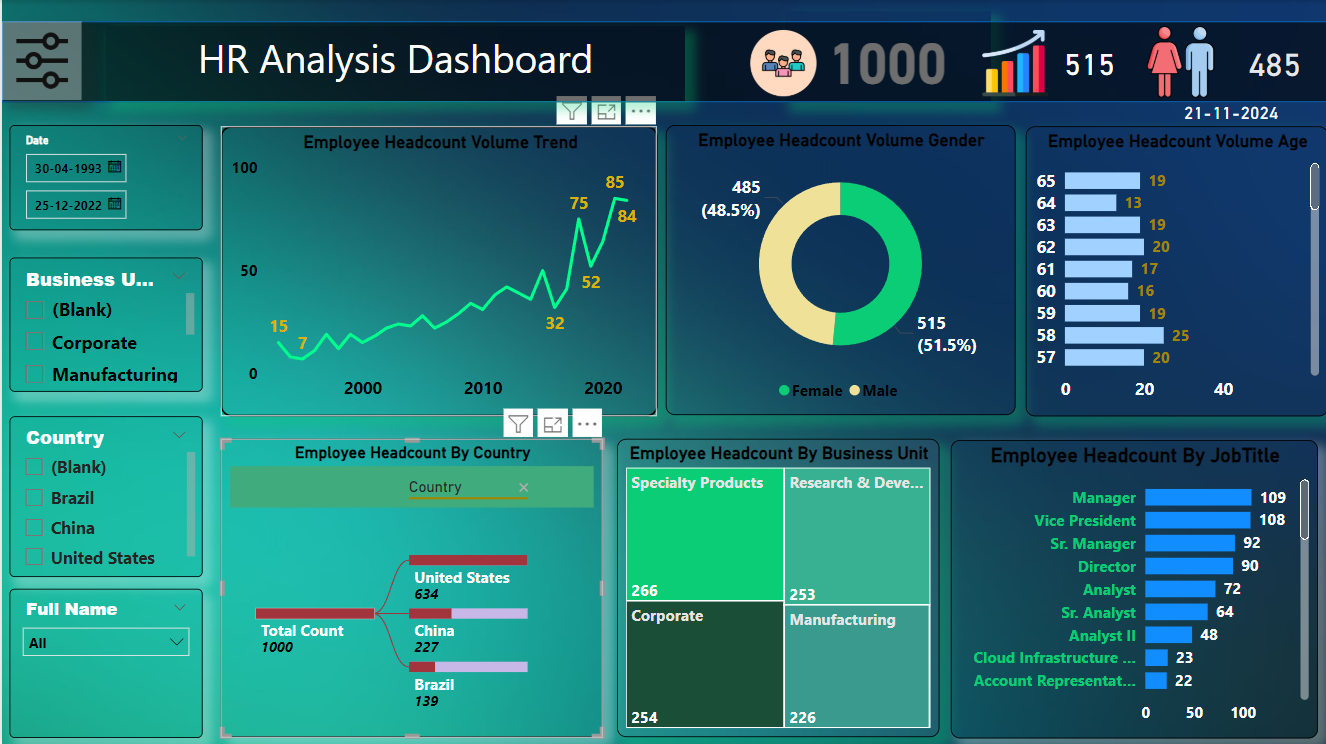

What the dashboard file says about the page in this screenshot:
{"tool":"powerbi","page":{"name":"Page 1","canvas":[1280,720],"ordinal":0},"visuals":[{"type":"card","fields":{"Values":["Employee Data.Total_count"]},"box":[754.7,11,199,87.8],"z":0},{"type":"lineChart","title":"Employee Headcount Volume Trend","fields":{"Category":["Employee Data.Hire Date.Variation.Date Hierarchy.Year"],"Y":["CountNonNull(Employee Data.Employee ID)"]},"box":[211.3,122.1,421.3,279.9],"z":1000},{"type":"donutChart","title":"Employee Headcount Volume Gender","fields":{"Category":["Employee Data.Gender"],"Y":["CountNonNull(Employee Data.Employee ID)"]},"box":[640.8,120.8,337.6,279.9],"z":2000},{"type":"clusteredBarChart","title":"Employee Headcount Volume Age","fields":{"Category":["Employee Data.Age"],"Y":["CountNonNull(Employee Data.Employee ID)"]},"box":[988,122.1,292.3,279.9],"z":3000},{"type":"decompositionTreeVisual","title":"Employee Headcount By Country","fields":{"Analyze":["CountNonNull(Employee Data.Country)"],"ExplainBy":["Employee Data.Country"]},"box":[211.3,424,369.1,288.2],"z":4000},{"type":"treemap","title":"Employee Headcount By Business Unit","fields":{"Group":["Employee Data.Business Unit"],"Values":["CountNonNull(Employee Data.Employee ID)"]},"box":[594.2,424,311.5,288.2],"z":5000},{"type":"clusteredBarChart","title":"Employee Headcount By JobTitle","fields":{"Category":["Employee Data.Job Title"],"Y":["CountNonNull(Employee Data.Employee ID)"]},"box":[915.5,424.3,354.8,288],"z":6000},{"type":"shape","box":[0,20.6,1280.3,78.2],"z":7000},{"type":"card","fields":{"Values":["Employee Data.Total_male"]},"box":[1185.6,24.7,85.1,72.7],"z":8000},{"type":"card","fields":{"Values":["Employee Data.Total_female"]},"box":[1010,24.7,79.6,72.7],"z":9000},{"type":"slicer","fields":{"Values":["Employee Data.Business Unit"]},"box":[7,249,186.4,129.4],"z":10000},{"type":"slicer","fields":{"Values":["Employee Data.Country"]},"box":[6.9,402.1,186.6,155.1],"z":11000},{"type":"slicer","fields":{"Values":["Employee Data.Full Name"]},"box":[6.9,568.1,186.6,144.1],"z":12000},{"type":"slicer","fields":{"Values":["Employee Data.Hire Date"]},"box":[6.9,120.8,186.6,101.5],"z":13000},{"type":"image","box":[1089.5,20.6,96.1,78.2],"z":14000},{"type":"image","box":[905.7,24.7,144.1,74.1],"z":15000},{"type":"image","box":[706.7,24.7,94.7,74.1],"z":16000},{"type":"image","box":[0,21,77,76],"z":17000},{"type":"card","fields":{"Values":["Min(Query1.date)"]},"box":[1093,84.5,187,50.7],"z":18000},{"type":"textbox","box":[100.2,25,559.3,72.3],"z":19000}]}

Visuals, with their boxes in screenshot pixels (x1, y1, x2, y2), scaled from the page's 1280x720 canvas onto the 1326x744 screenshot:
card - Employee Data.Total_count: box(782, 11, 988, 102)
"Employee Headcount Volume Trend" lineChart: box(219, 126, 655, 415)
"Employee Headcount Volume Gender" donutChart: box(664, 125, 1014, 414)
"Employee Headcount Volume Age" clusteredBarChart: box(1024, 126, 1325, 415)
"Employee Headcount By Country" decompositionTreeVisual: box(219, 438, 601, 736)
"Employee Headcount By Business Unit" treemap: box(616, 438, 938, 736)
"Employee Headcount By JobTitle" clusteredBarChart: box(948, 438, 1316, 736)
shape: box(0, 21, 1325, 102)
card - Employee Data.Total_male: box(1228, 26, 1316, 101)
card - Employee Data.Total_female: box(1046, 26, 1129, 101)
slicer - Employee Data.Business Unit: box(7, 257, 200, 391)
slicer - Employee Data.Country: box(7, 416, 200, 576)
slicer - Employee Data.Full Name: box(7, 587, 200, 736)
slicer - Employee Data.Hire Date: box(7, 125, 200, 230)
image: box(1129, 21, 1228, 102)
image: box(938, 26, 1088, 102)
image: box(732, 26, 830, 102)
image: box(0, 22, 80, 100)
card - Min(Query1.date): box(1132, 87, 1325, 140)
textbox: box(104, 26, 683, 101)
